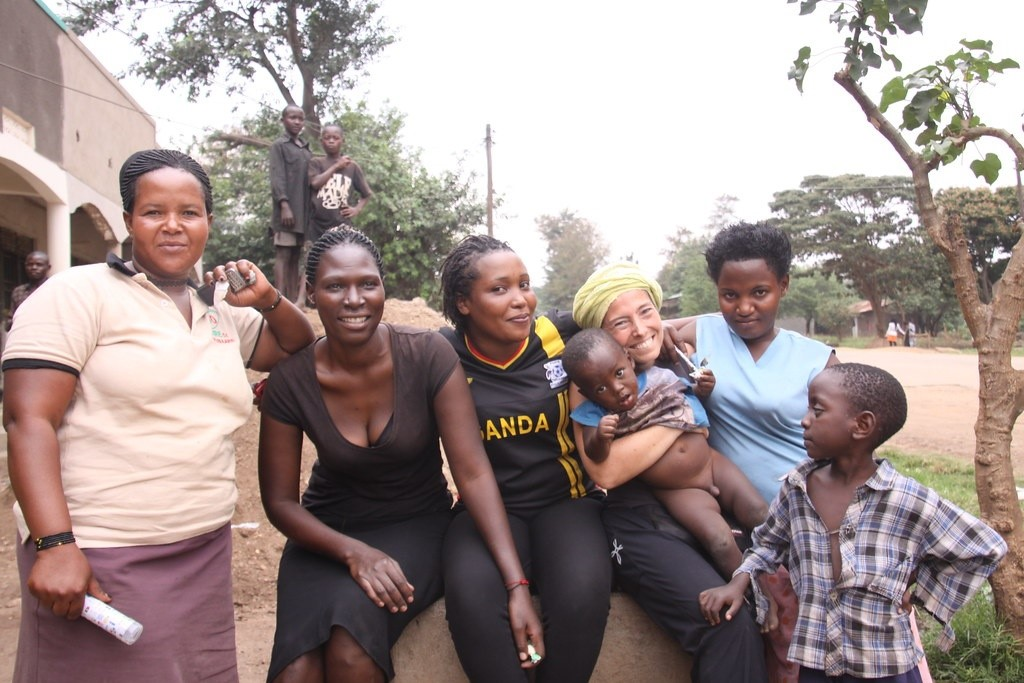face_no_mask: (122, 151, 212, 275), (801, 367, 907, 463), (447, 238, 537, 344), (307, 226, 384, 348), (584, 268, 672, 361), (713, 251, 790, 343), (563, 332, 641, 411), (319, 123, 342, 158), (282, 106, 304, 137), (27, 255, 49, 285)
